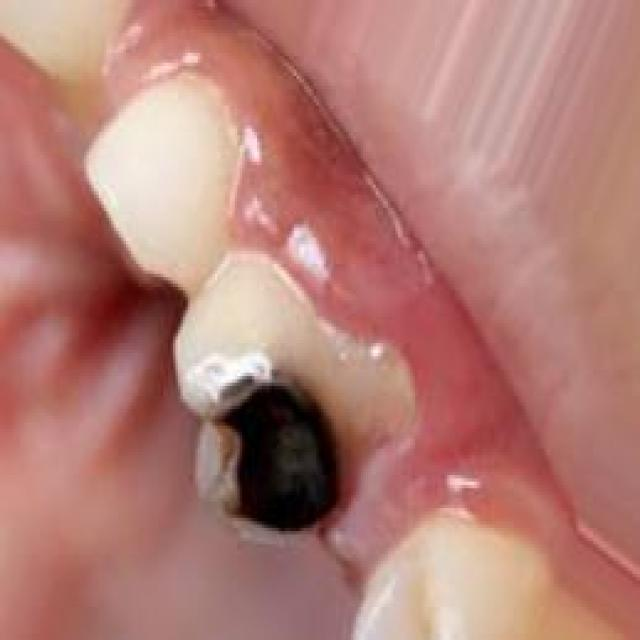caries: (190, 296, 366, 557)
